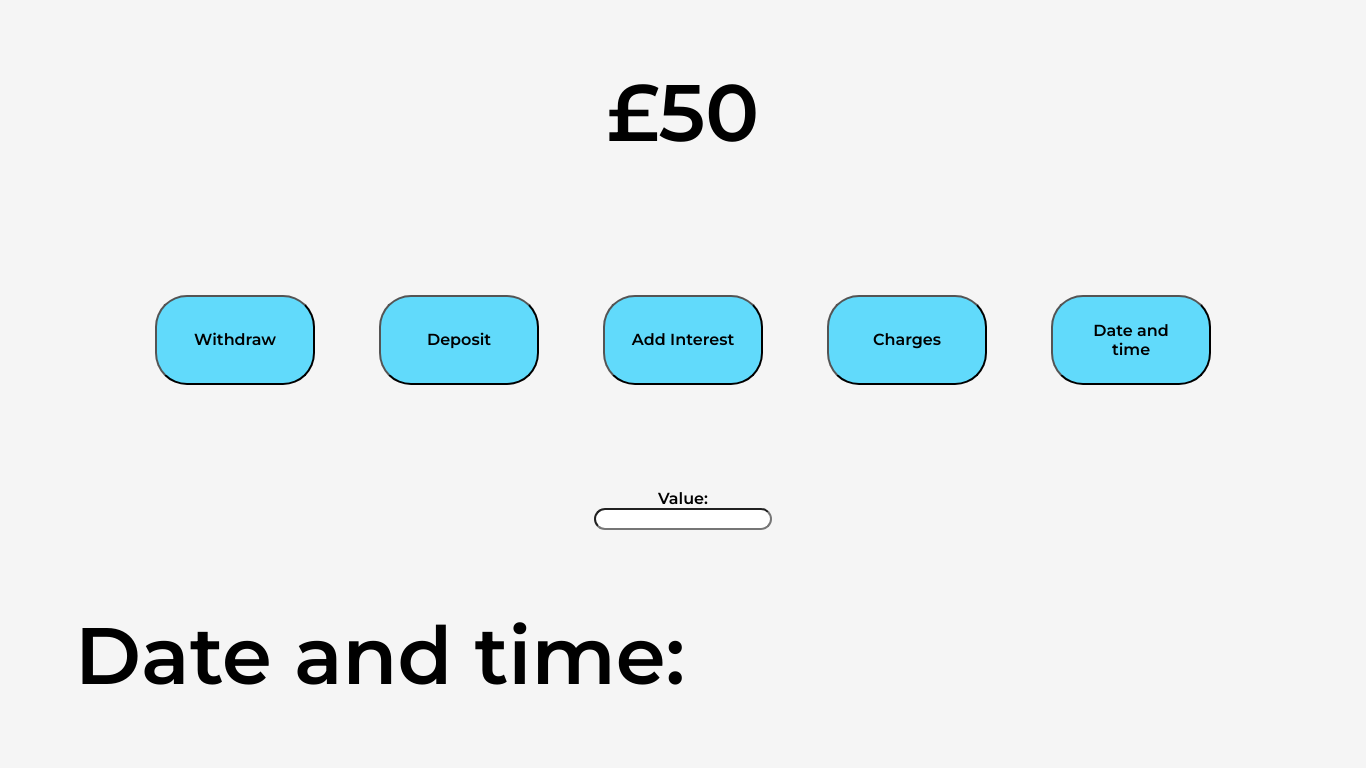
Test case: App component › updates value after adding interest
Step 1. Click the button "Add Interest" → {"x": 683, "y": 340}, box [603,294,763,384]
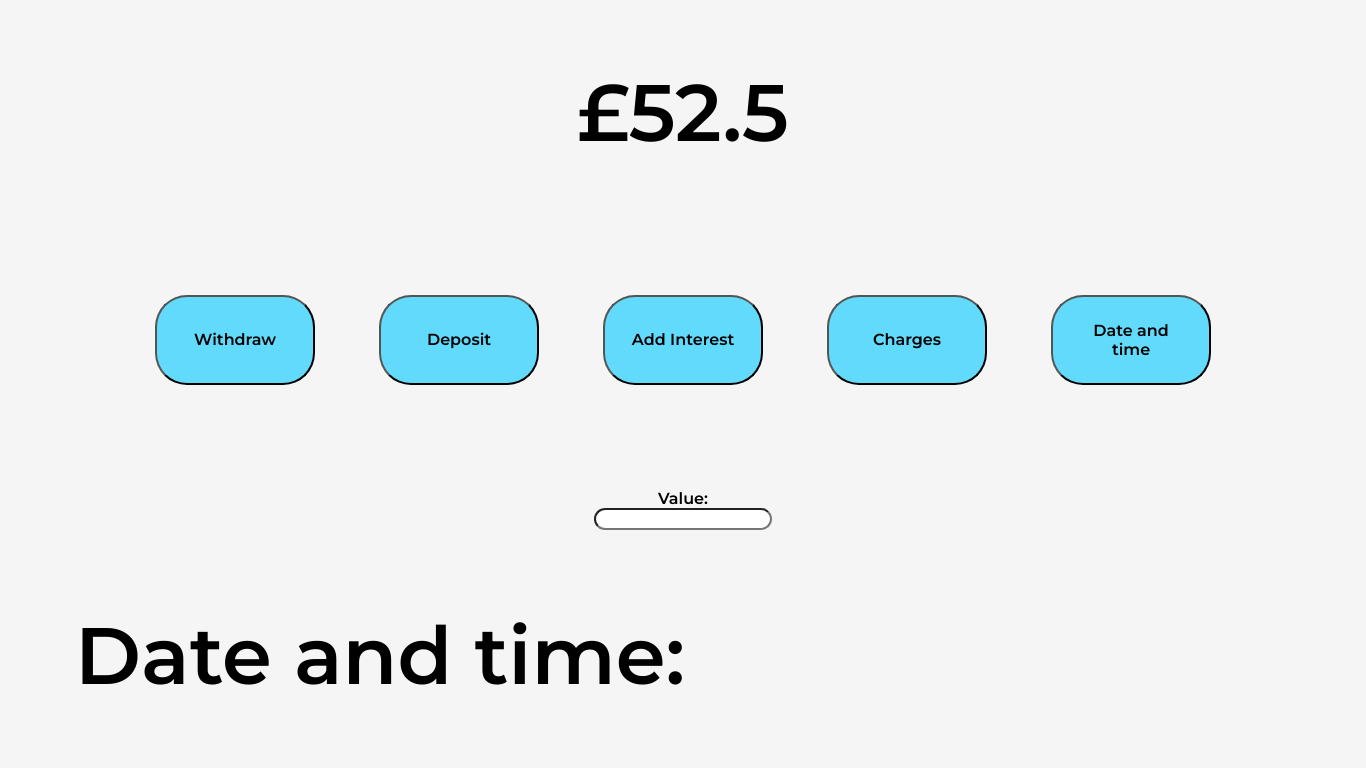
expect the heading "£52.5" is shown: met, box [577,64,789,161]
